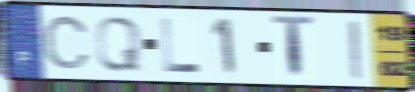1: (209, 16, 238, 77)
C: (40, 14, 93, 71)
I: (346, 19, 366, 82)
L: (159, 16, 204, 75)
Q: (93, 15, 143, 74)
T: (270, 14, 316, 83)
